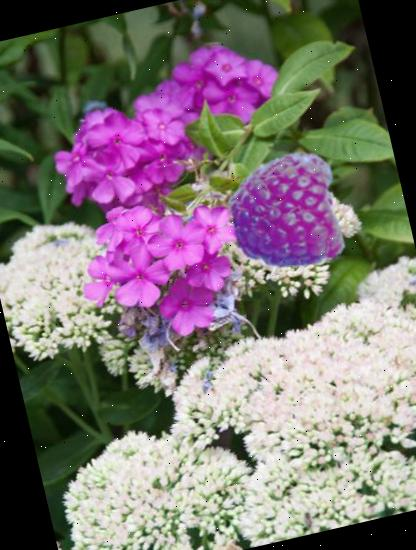Raspberry: (215, 142, 355, 281)
